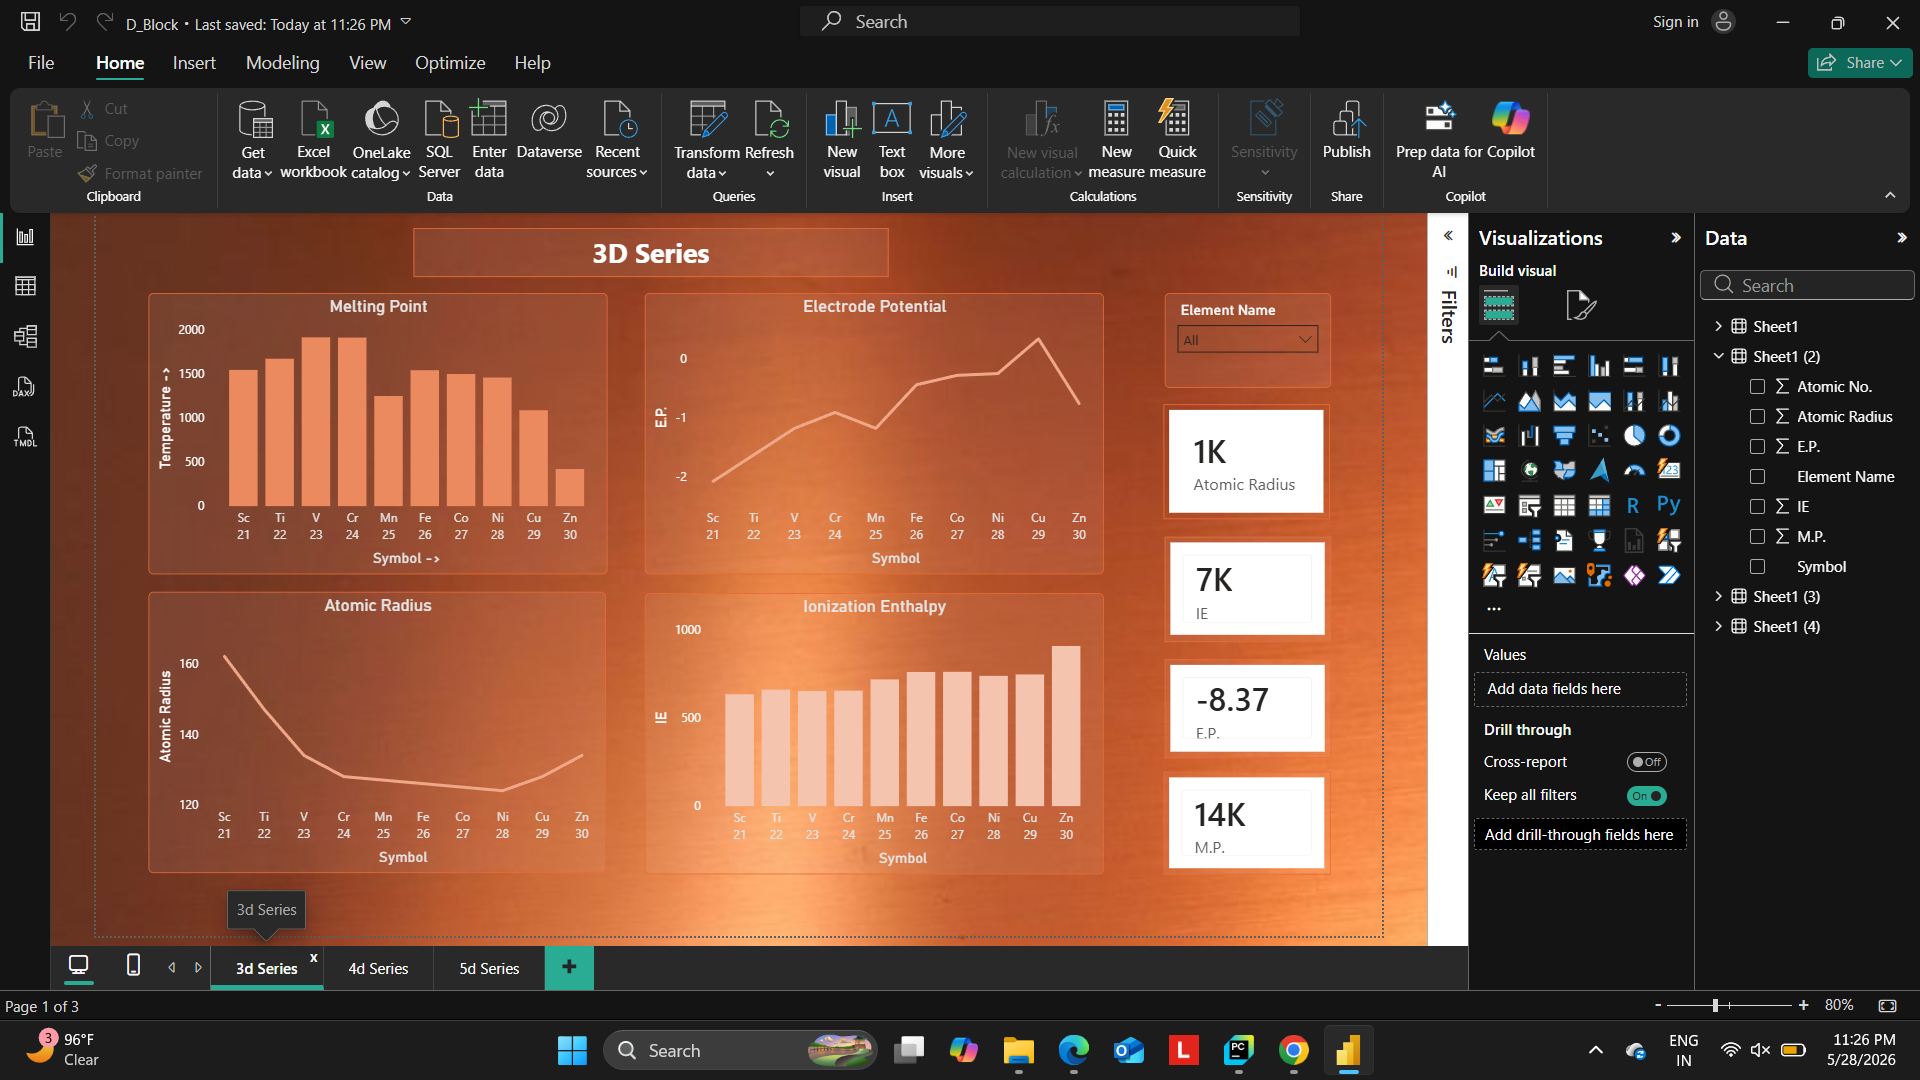

This screenshot's page, from the dashboard's own definition file:
{"tool":"powerbi","page":{"name":"3d Series","canvas":[1280,720],"ordinal":0},"visuals":[{"type":"lineChart","title":"Atomic Radius","fields":{"Category":["Sheet1 (2).Atomic No.","Sheet1 (2).Symbol"],"Y":["Sum(Sheet1 (2).Atomic Radius)"]},"box":[52.2,376.9,455.3,279.9],"z":0},{"type":"clusteredColumnChart","title":"Ionization Enthalpy","fields":{"Category":["Sheet1 (2).Atomic No.","Sheet1 (2).Symbol"],"Y":["Sum(Sheet1 (2).IE)"]},"box":[546.1,378.2,456.5,279.9],"z":1000},{"type":"clusteredColumnChart","title":"Melting Point","fields":{"Category":["Sheet1 (2).Atomic No.","Sheet1 (2).Symbol"],"Y":["Sum(Sheet1 (2).M.P.)"]},"box":[52.2,79.6,456.5,279.9],"z":2000},{"type":"lineChart","title":"Electrode Potential","fields":{"Category":["Sheet1 (2).Atomic No.","Sheet1 (2).Symbol"],"Y":["Sum(Sheet1 (2).E.P.)"]},"box":[546.1,79.6,456.5,279.9],"z":3000},{"type":"cardVisual","fields":{"Data":["Sum(Sheet1 (2).M.P.)"]},"box":[1062.3,556,166.7,102],"z":4000},{"type":"cardVisual","fields":{"Data":["Sum(Sheet1 (2).E.P.)"]},"box":[1063.6,444.1,165.4,98.3],"z":5000},{"type":"cardVisual","fields":{"Data":["Sum(Sheet1 (2).IE)"]},"box":[1063.6,322.2,165.4,104.5],"z":6000},{"type":"cardVisual","fields":{"Data":["Sum(Sheet1 (2).Atomic Radius)"]},"box":[1062.3,190.3,165.4,114.4],"z":7000},{"type":"textbox","box":[316,14.9,472.7,48.5],"z":8000},{"type":"slicer","fields":{"Values":["Sheet1 (2).Element Name"]},"box":[1063.6,79.6,165.4,94.5],"z":9000}]}

Visuals, with their boxes on the page's 1280x720 design canvas (x1, y1, x2, y2). These are canvas units, not pixel positions in the 1920x1080 screenshot, which may show the page scaled, cropped or inside an application window:
"Atomic Radius" lineChart: (x1=52, y1=377, x2=508, y2=657)
"Ionization Enthalpy" clusteredColumnChart: (x1=546, y1=378, x2=1003, y2=658)
"Melting Point" clusteredColumnChart: (x1=52, y1=80, x2=509, y2=360)
"Electrode Potential" lineChart: (x1=546, y1=80, x2=1003, y2=360)
cardVisual - Sum(Sheet1 (2).M.P.): (x1=1062, y1=556, x2=1229, y2=658)
cardVisual - Sum(Sheet1 (2).E.P.): (x1=1064, y1=444, x2=1229, y2=542)
cardVisual - Sum(Sheet1 (2).IE): (x1=1064, y1=322, x2=1229, y2=427)
cardVisual - Sum(Sheet1 (2).Atomic Radius): (x1=1062, y1=190, x2=1228, y2=305)
textbox: (x1=316, y1=15, x2=789, y2=63)
slicer - Sheet1 (2).Element Name: (x1=1064, y1=80, x2=1229, y2=174)
